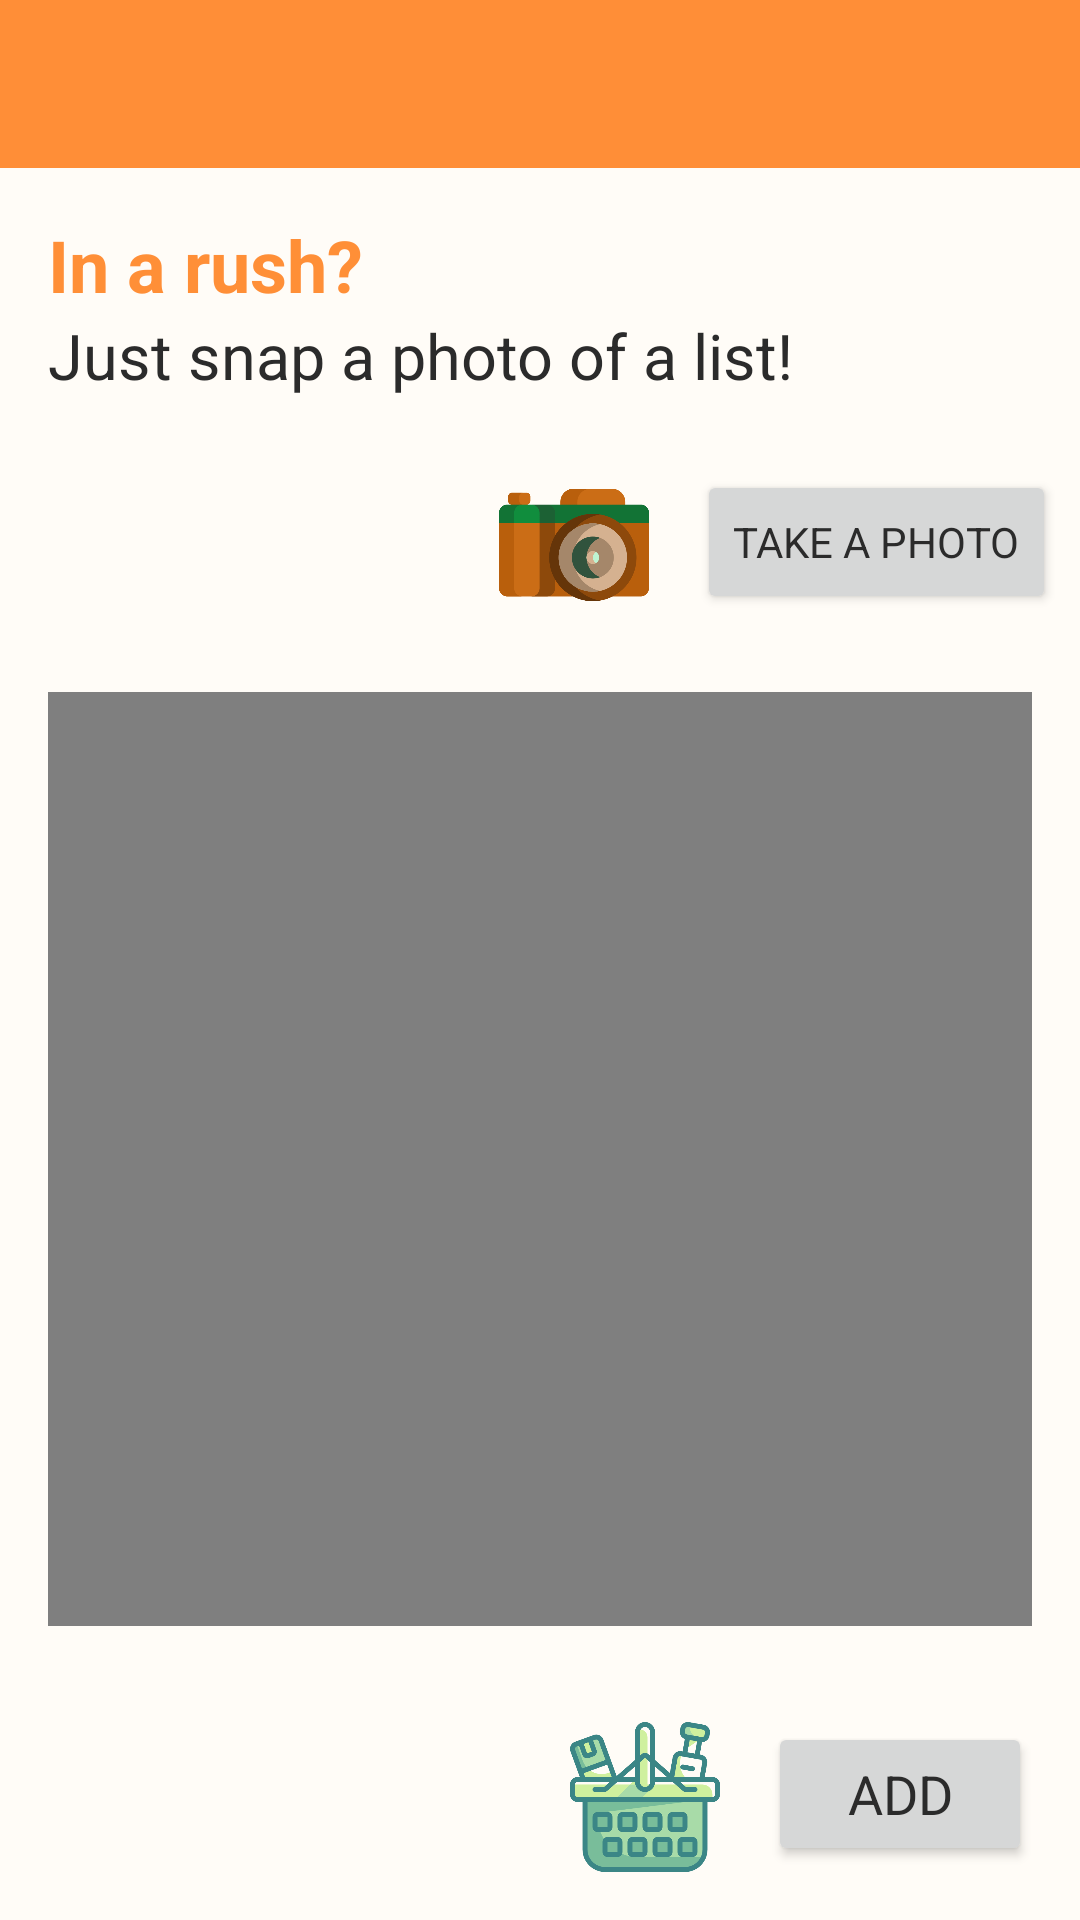

Point at icon controls on the screen. Image size 1080px×1920px, points as [x,y].
basket: [645,1797]
camera: [574,545]
